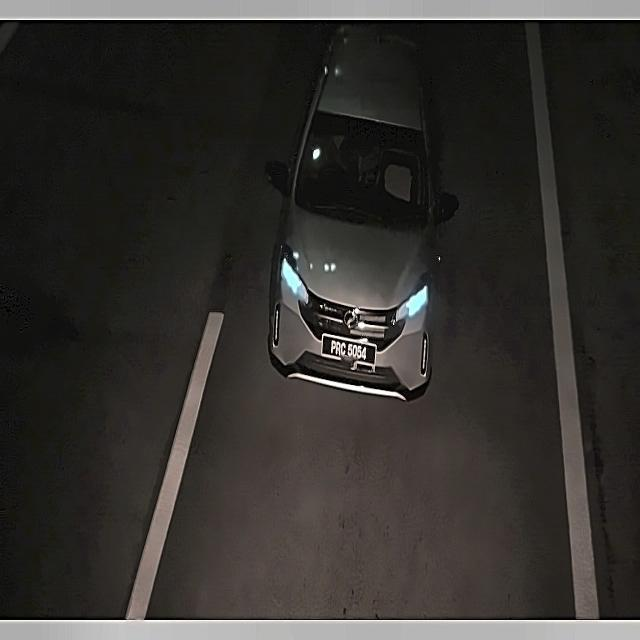car: (320, 326, 380, 377)
